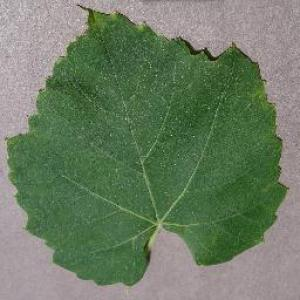Folha: (5, 2, 288, 288)
